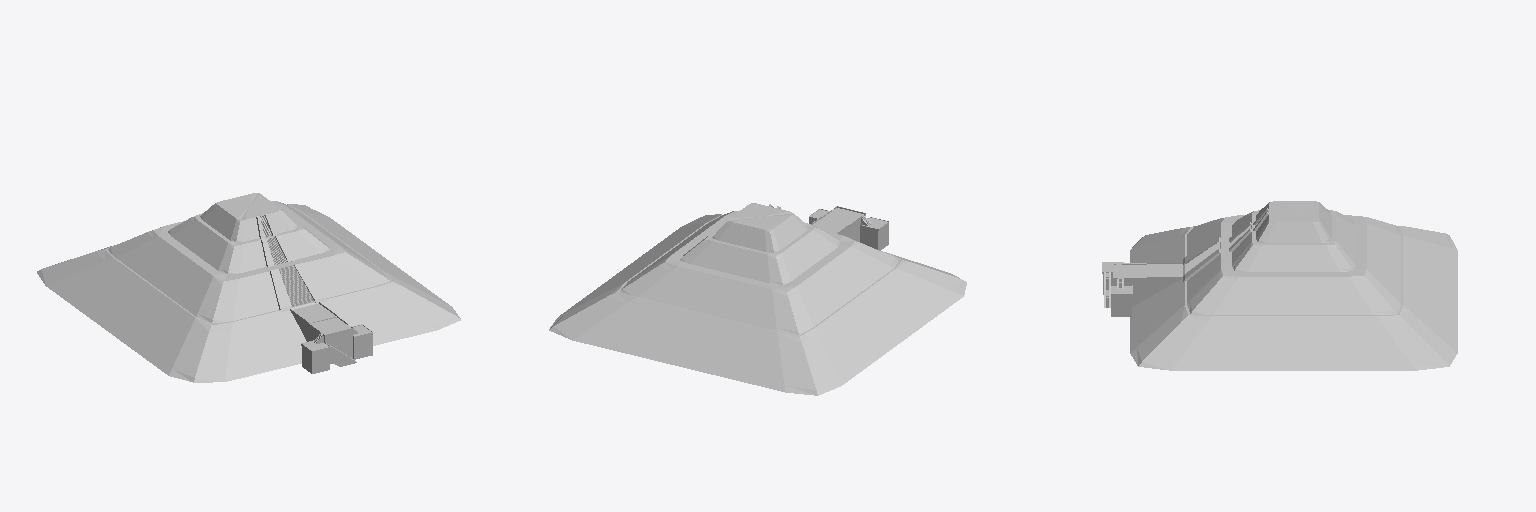
Rendered from PiramideSol.obj.
3 views of the same model, side by side, from view 1: azimuth 30°, elevation 25°; view 2: azimuth 150°, elevation 25°; view 3: azimuth 270°, elevation 25° (orthographic).
Visible parts, largest first — view 1: PIRAMIDE__Material.001, PIRAMIDE__Material; view 2: PIRAMIDE__Material.001, PIRAMIDE__Material; view 3: PIRAMIDE__Material.001, PIRAMIDE__Material.
Boxes of the visible parts, <box> form: PIRAMIDE__Material.001: <box>37,193,460,382</box>; PIRAMIDE__Material: <box>260,215,372,373</box>; PIRAMIDE__Material.001: <box>549,203,966,395</box>; PIRAMIDE__Material: <box>769,206,888,250</box>; PIRAMIDE__Material.001: <box>1130,201,1457,370</box>; PIRAMIDE__Material: <box>1102,210,1268,316</box>.
Size of the model in its own units: 78 by 24.01 by 84.63.